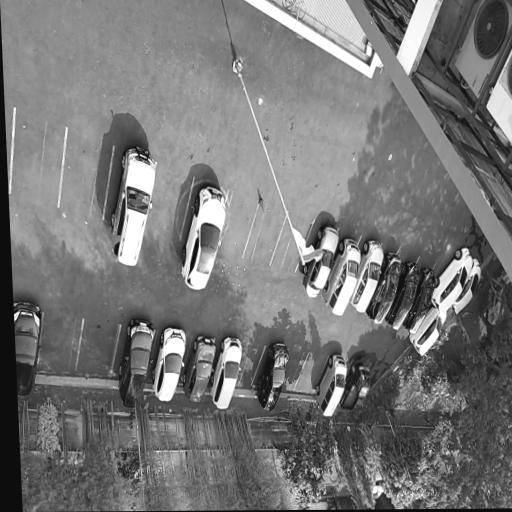Car: (106, 144, 159, 270), (174, 183, 230, 299), (115, 317, 156, 413), (320, 238, 362, 321), (299, 222, 342, 303), (148, 324, 188, 409), (206, 337, 246, 414), (252, 342, 291, 420), (13, 300, 43, 399), (364, 251, 403, 327), (349, 239, 387, 316), (431, 247, 474, 313), (384, 261, 422, 334), (180, 334, 217, 408), (401, 267, 438, 335), (312, 354, 349, 421), (408, 305, 447, 361), (451, 256, 483, 317), (338, 362, 370, 418)
Space Available: (11, 112, 67, 211), (58, 129, 114, 222), (146, 167, 194, 243), (244, 206, 287, 268), (218, 197, 259, 259), (39, 314, 83, 371), (271, 216, 314, 274), (77, 320, 120, 376), (294, 355, 330, 395), (236, 345, 266, 386), (282, 352, 309, 391)
